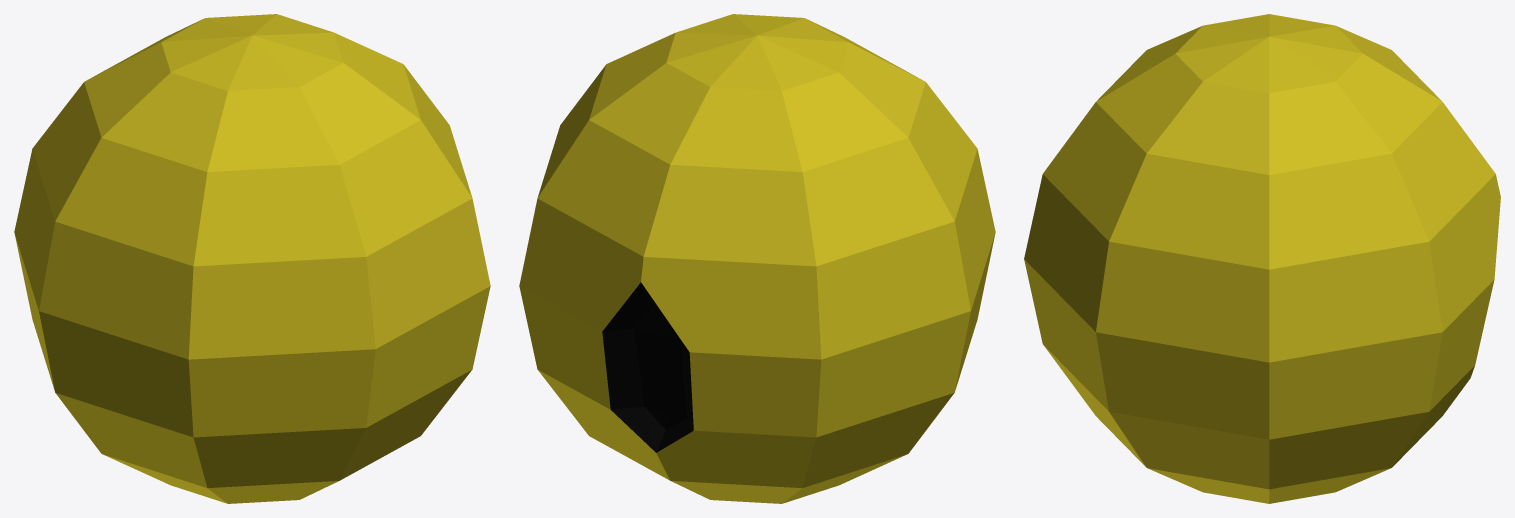
Rendered from cat_leye.obj.
The picture shows the model from 3 angles, left to right: view 1: azimuth 30°, elevation 25°; view 2: azimuth 150°, elevation 25°; view 3: azimuth 270°, elevation 25°; orthographic projection.
Parts seen in each view (by area): view 1: leye_yellow; view 2: leye_yellow, leye_black; view 3: leye_yellow.
Boxes of the visible parts, x1,y1,x2,y2 form: leye_yellow: [14, 14, 490, 503]; leye_yellow: [519, 14, 995, 503]; leye_black: [602, 282, 693, 452]; leye_yellow: [1024, 14, 1500, 503].
Bounding box in the file's own units: 0.6161 × 0.6161 × 0.599.
